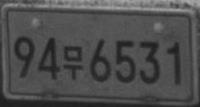1: (164, 40, 187, 85)
3: (138, 40, 160, 84)
4: (36, 36, 61, 81)
5: (114, 39, 136, 84)
6: (89, 39, 111, 83)
9: (13, 35, 35, 78)
무: (62, 44, 84, 79)
